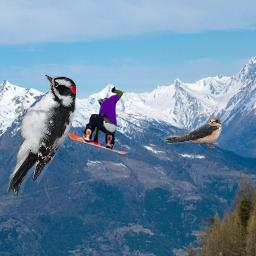Swallow: (164, 116, 222, 148)
Woodpecker: (6, 73, 76, 197)
